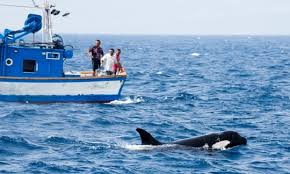tau_dansu: (1, 6, 128, 106)
